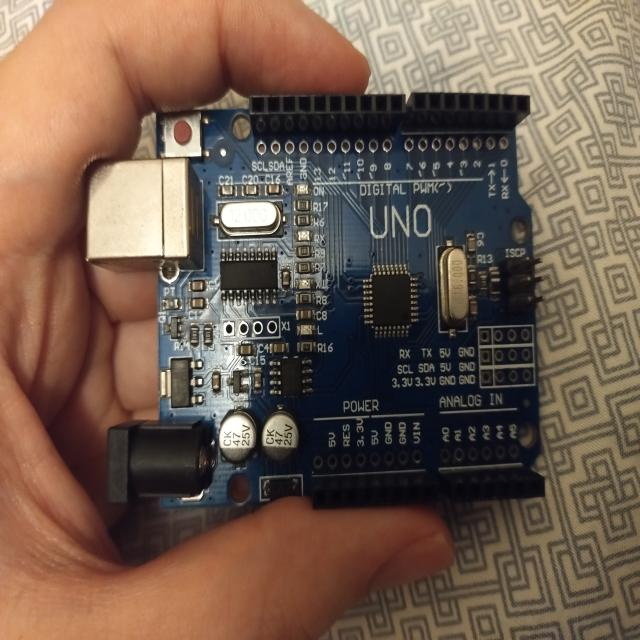arduino: (68, 91, 567, 516)
